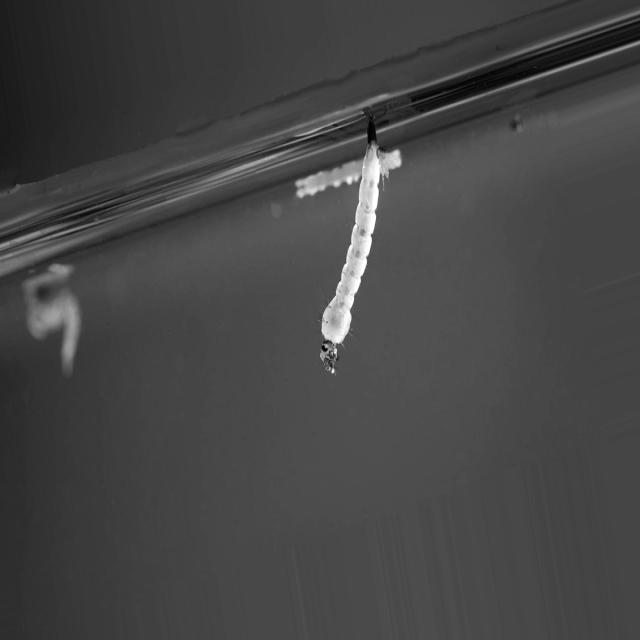larvas: (310, 124, 401, 379), (286, 148, 363, 220), (20, 284, 82, 370)
